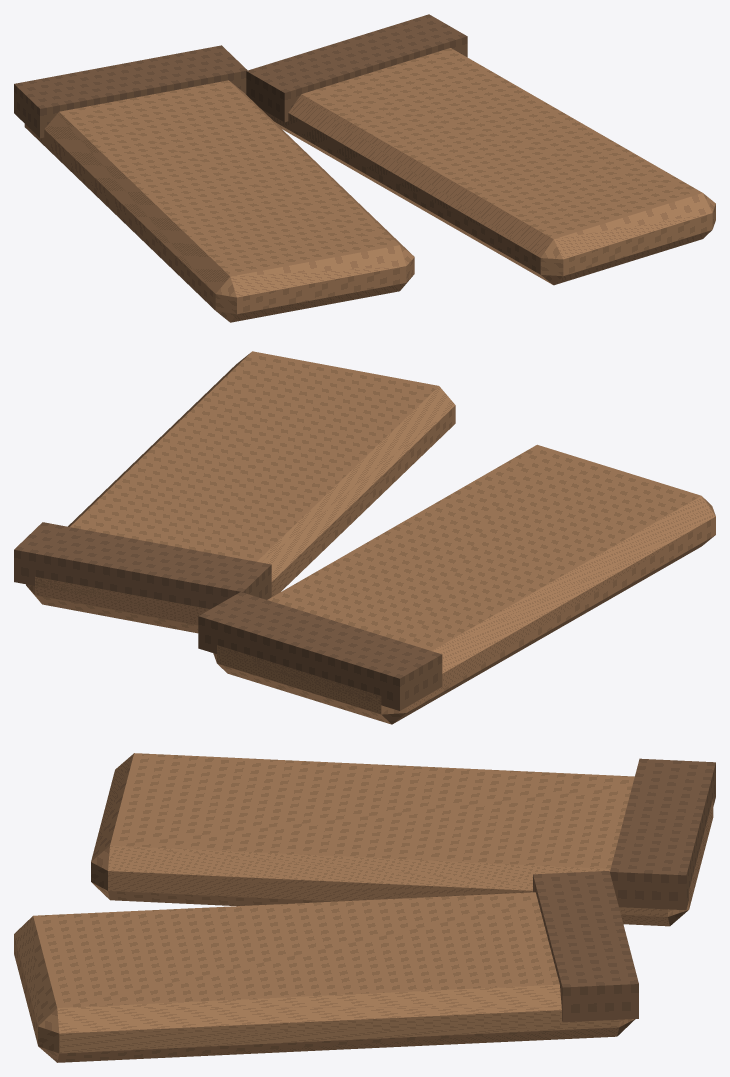
The model's file is arm_warmers.glb.
3 views of the same model, one above another, from view 1: azimuth 30°, elevation 25°; view 2: azimuth 150°, elevation 25°; view 3: azimuth 270°, elevation 25° (orthographic). The views are drawn at different scales.
Visible parts, largest first — view 1: block_knitted leg (×2), block_binding (×2); view 2: block_knitted leg (×2), block_binding (×2); view 3: block_knitted leg (×2), block_binding (×2).
Boxes of the visible parts, x1,y1,x2,y2 form: block_knitted leg (×2): (24,48,715,322); block_binding (×2): (14,14,467,138); block_knitted leg (×2): (26,351,715,724); block_binding (×2): (14,522,442,710); block_knitted leg (×2): (14,753,713,1062); block_binding (×2): (533,758,715,1022).
Size of the model in its own units: 0.2334 by 0.025 by 0.2554.
Materials: 1 (1 with a texture image).
